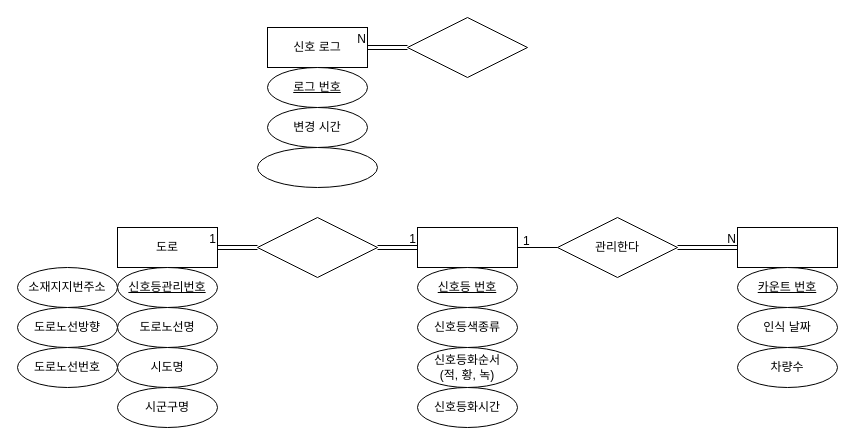
Image size: 855x445. Some labels were removed from this diagram. The shapes that lost their labels are listed below. From the top down, each one's centre as x and y in pixels, then its label:
(467,47): 저장한다
(317,167): 변경 내용(적, 황, 녹)
(317,247): 존재한다
(467,247): 신호등(차로)
(787,247): 차량 카운트
